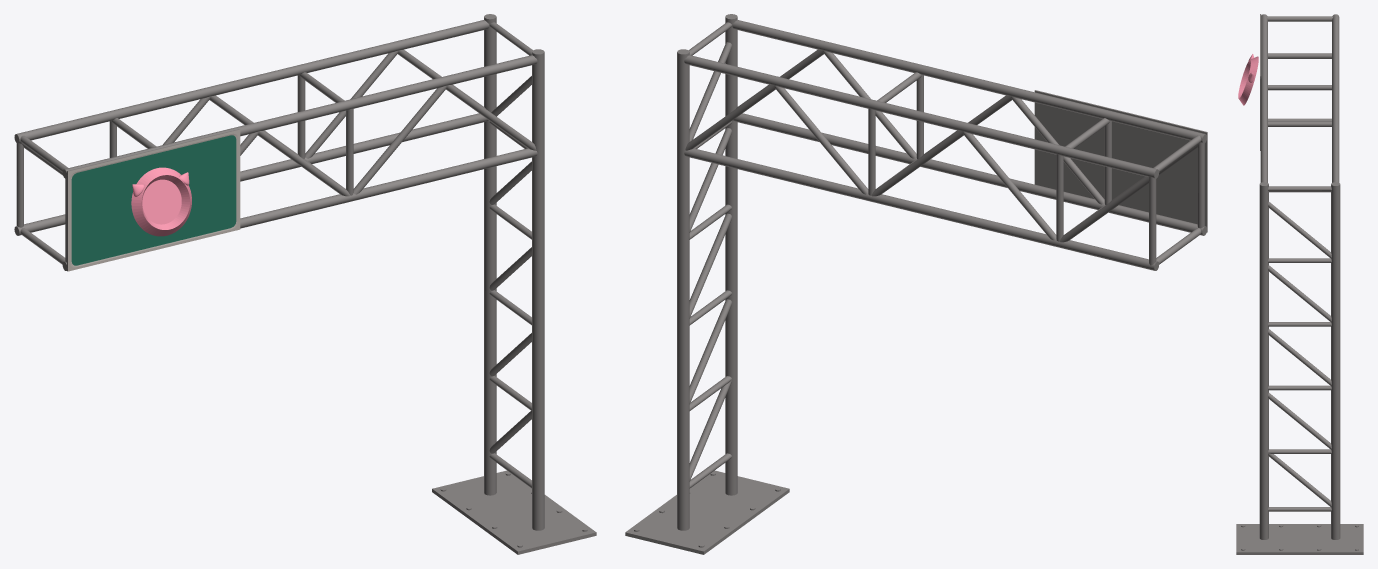
File: señal-comida-gato-trofeo.glb
3 renders of one model, left to right at view 1: azimuth 30°, elevation 25°; view 2: azimuth 150°, elevation 25°; view 3: azimuth 270°, elevation 25°, orthographic. The views are drawn at different scales.
Parts seen in each view (by area): view 1: TownSign, Círculo; view 2: TownSign; view 3: TownSign, Círculo.
Part boxes in pixels (box(x1,y1,x2,y2)): TownSign: box(14, 14, 596, 554); Círculo: box(131, 167, 191, 236); TownSign: box(625, 14, 1207, 554); TownSign: box(1236, 14, 1363, 554); Círculo: box(1238, 56, 1258, 105).
Size of the model in its own units: 5.98 by 5.35 by 1.74.
2 materials, 1 textured.
